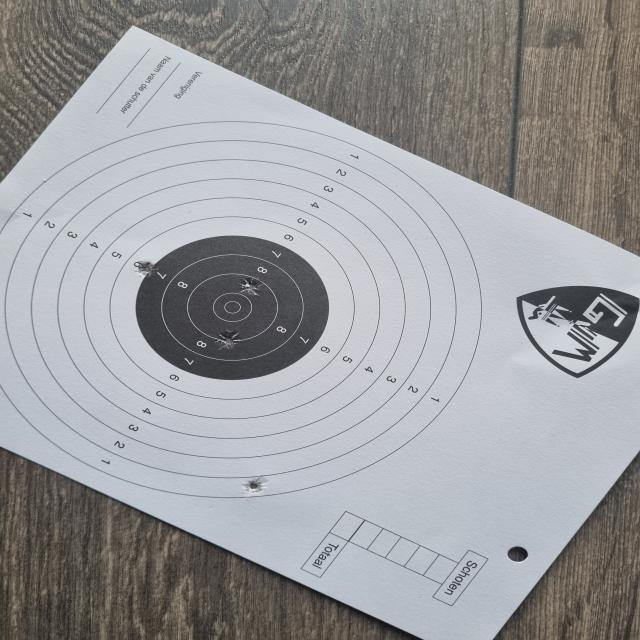1: (241, 476, 270, 494)
7: (134, 261, 158, 276)
9: (215, 331, 240, 351), (237, 277, 263, 296)
Target: (0, 119, 485, 500)
black_contour: (138, 233, 329, 379)
